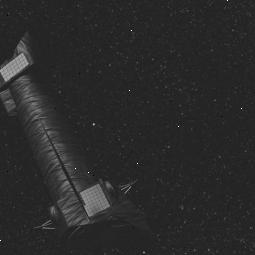xmm_newton: (0, 37, 165, 255)
